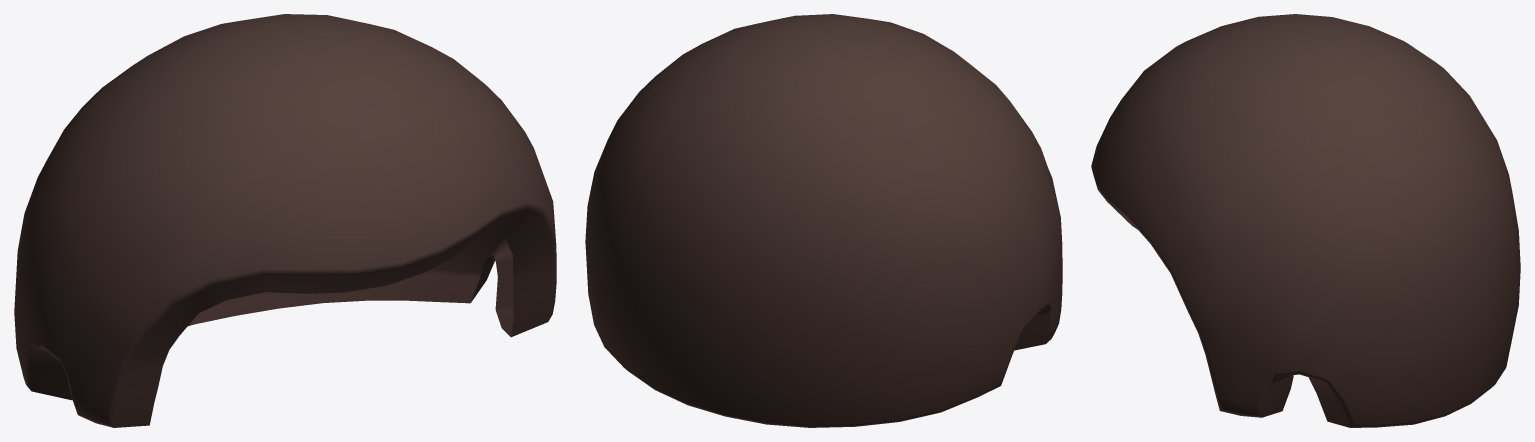
Rendered from Hairstyle_Male_13.glb.
The picture shows the model from 3 angles, left to right: view 1: azimuth 30°, elevation 25°; view 2: azimuth 150°, elevation 25°; view 3: azimuth 270°, elevation 25°; orthographic projection. The views are drawn at different scales.
Parts seen in each view (by area): view 1: Hairstyle_Male_13; view 2: Hairstyle_Male_13; view 3: Hairstyle_Male_13.
Part boxes in pixels (x1,y1,x2,y2): Hairstyle_Male_13: [14, 14, 556, 427]; Hairstyle_Male_13: [585, 14, 1062, 427]; Hairstyle_Male_13: [1091, 14, 1520, 427].
Size of the model in its own units: 0.605 by 0.4164 by 0.5061.
1 material, 1 textured.
